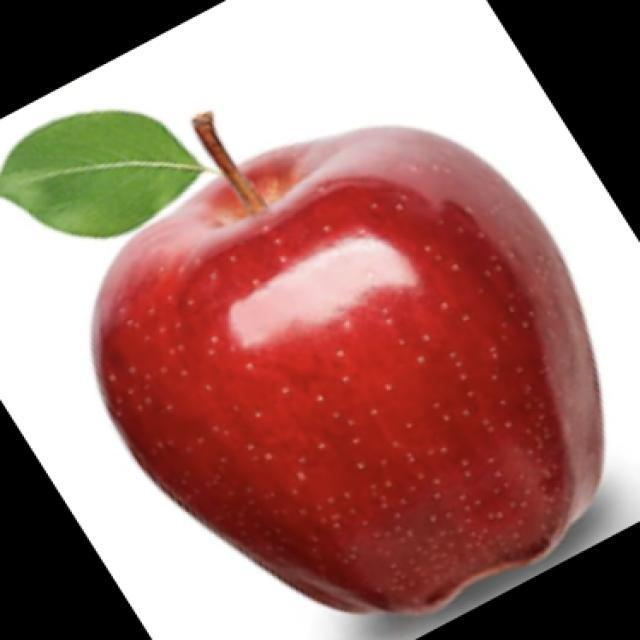Fresh Apple: (85, 119, 604, 622)
